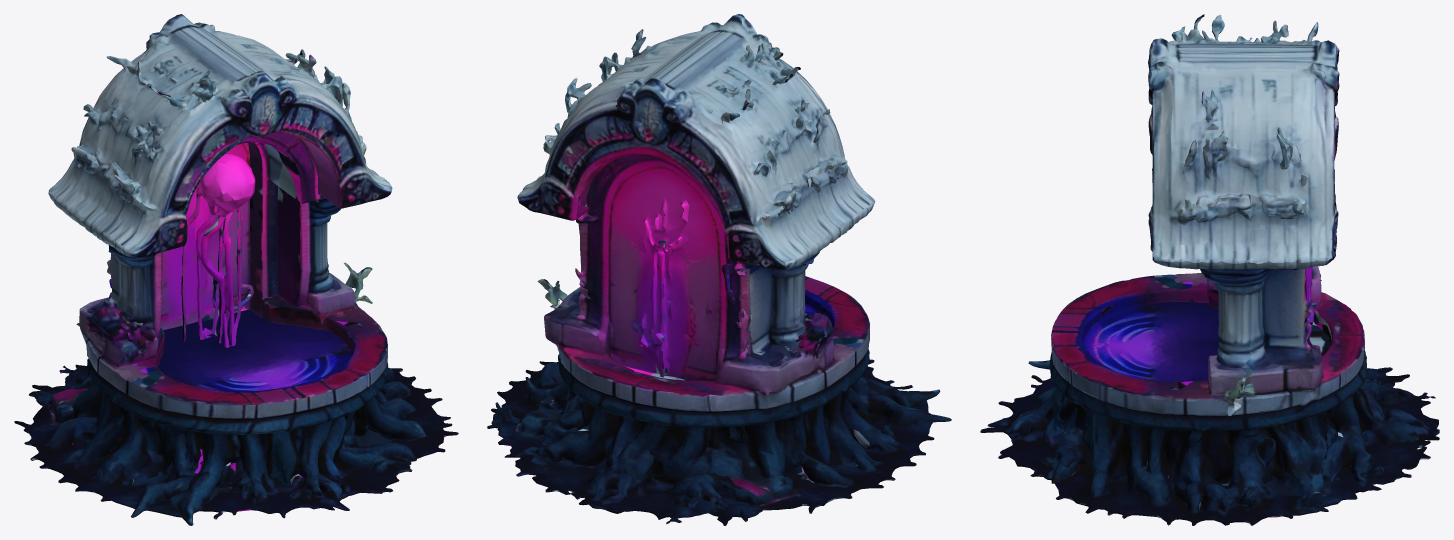
File: growth-planter-b-generated-2026-05-17T18-07-41-545Z.high.glb
3 views of the same model, side by side, from view 1: azimuth 30°, elevation 25°; view 2: azimuth 150°, elevation 25°; view 3: azimuth 270°, elevation 25° (orthographic). The views are drawn at different scales.
Visible parts, largest first — view 1: temp_mesh.ply; view 2: temp_mesh.ply; view 3: temp_mesh.ply.
Part boxes in pixels (bbox=[...]): temp_mesh.ply: bbox=[14, 14, 458, 525]; temp_mesh.ply: bbox=[487, 14, 951, 525]; temp_mesh.ply: bbox=[980, 14, 1439, 525].
Size of the model in its own units: 1.93 by 1.86 by 1.97.
1 material, 1 textured.
